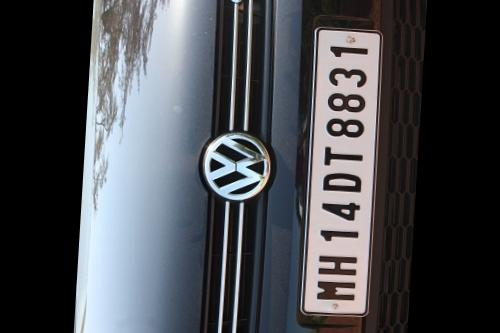plate: (279, 9, 404, 325)
